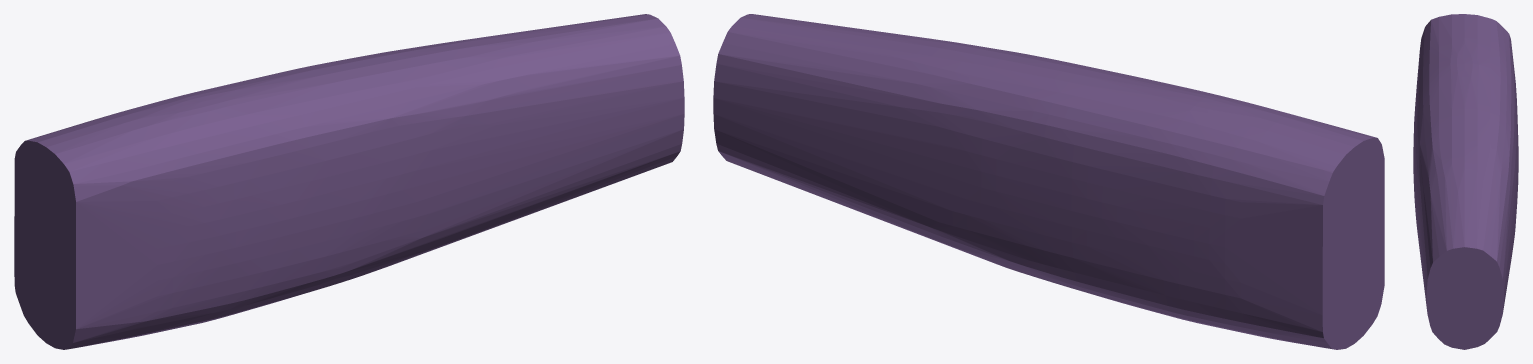
The picture shows the model from 3 angles, left to right: view 1: azimuth 30°, elevation 25°; view 2: azimuth 150°, elevation 25°; view 3: azimuth 270°, elevation 25°; orthographic projection. The views are drawn at different scales.
Bounding box in the file's own units: 0.1206 × 0.0397 × 0.0246.
